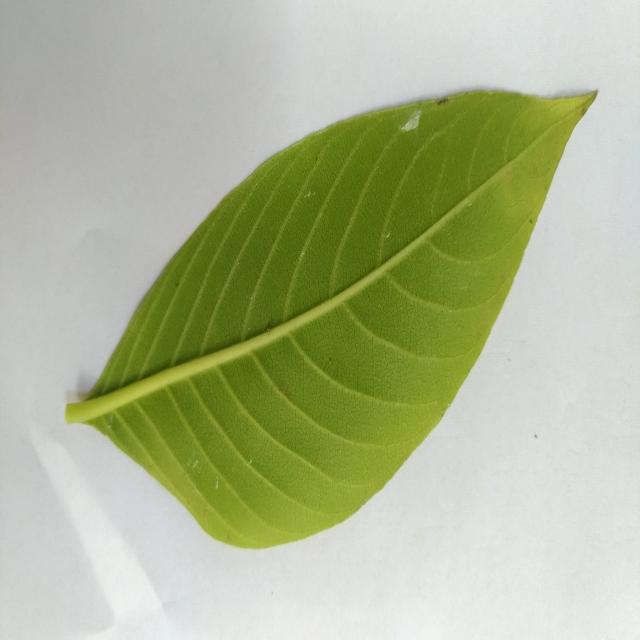malabar_nut: (65, 91, 595, 547)
